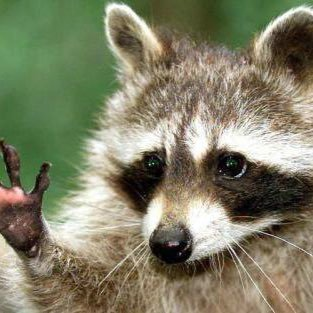raccoon: (10, 3, 313, 311)
